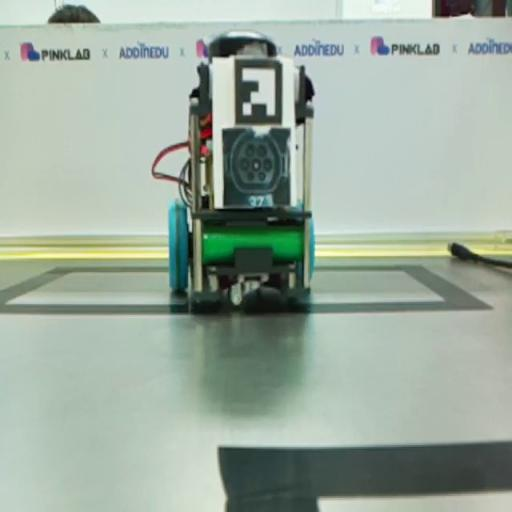pinky_63: (164, 31, 314, 309)
